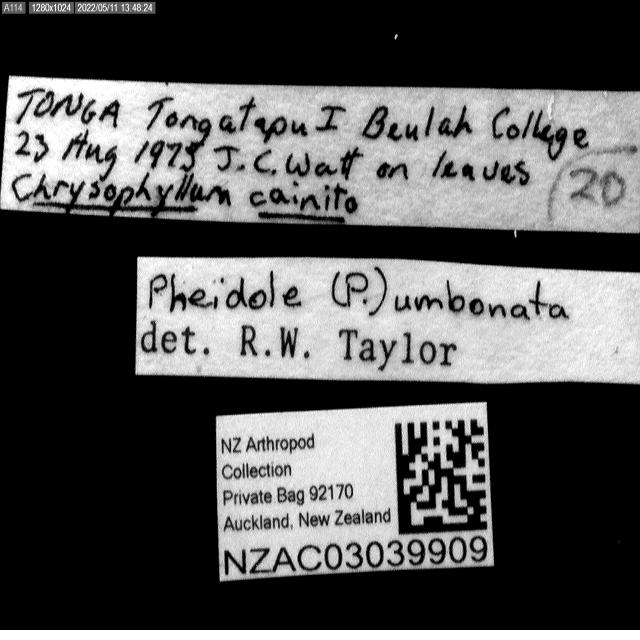hand_label: (0, 77, 640, 233)
mixed_label: (136, 258, 640, 384)
typed_label: (216, 402, 494, 581)
